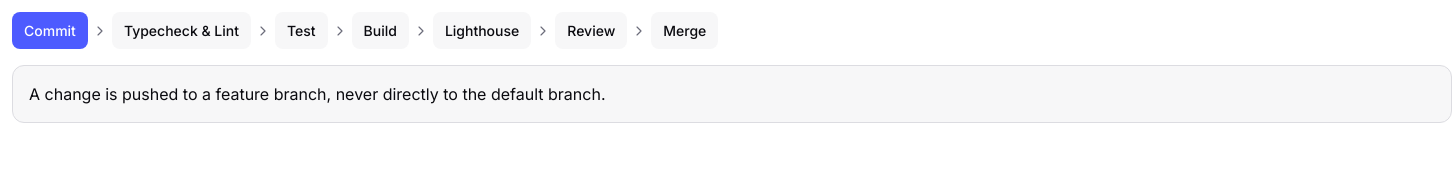
Test: PipelineVisualizer › shows another stage's description on click and reports the selection
Click the button "Lighthouse": [482, 30] box [433, 12, 531, 49]
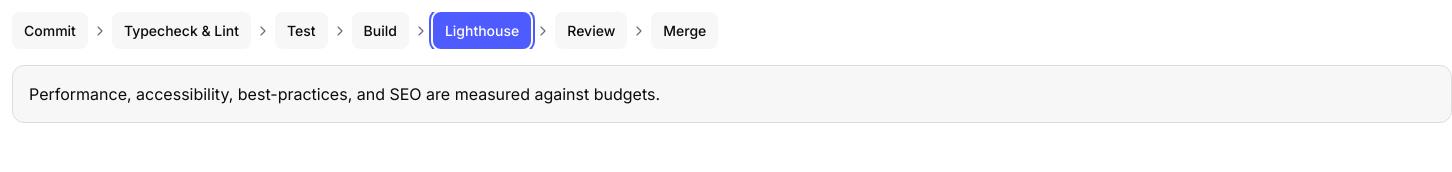
Now the text "Performance, accessibility, best-practices, and SEO are measured against budgets." is shown, box [29, 84, 660, 104]
